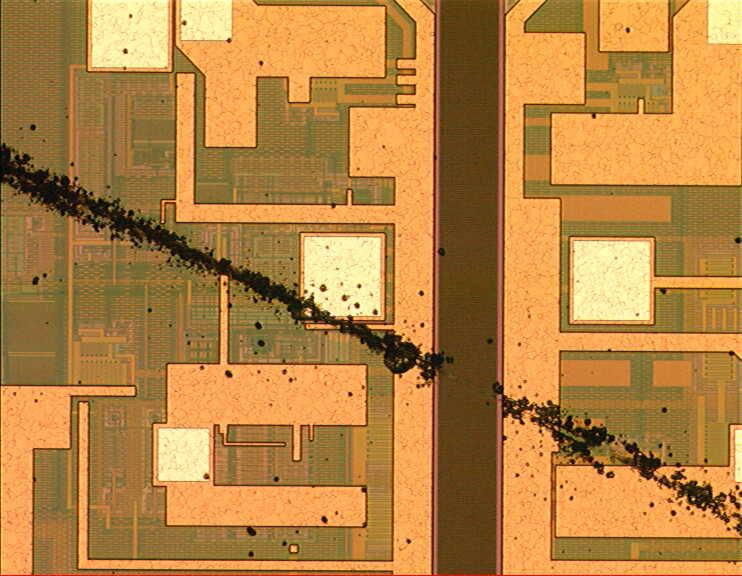SCRATCH: (1, 157, 742, 530)
